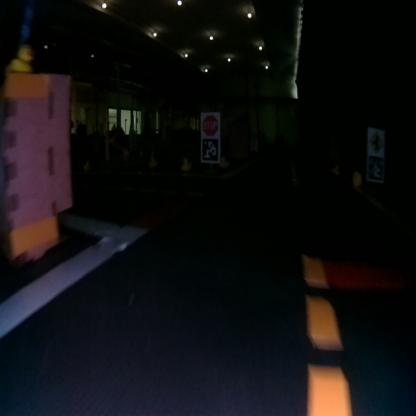Duckie: (7, 44, 32, 72), (180, 157, 189, 171), (352, 172, 362, 184), (220, 156, 228, 168), (331, 165, 339, 175), (149, 156, 156, 166), (84, 160, 90, 168)
Intersection sign: (368, 130, 384, 154)
QR code: (366, 156, 383, 180), (201, 138, 219, 160)
Stop sign: (202, 113, 218, 134)
